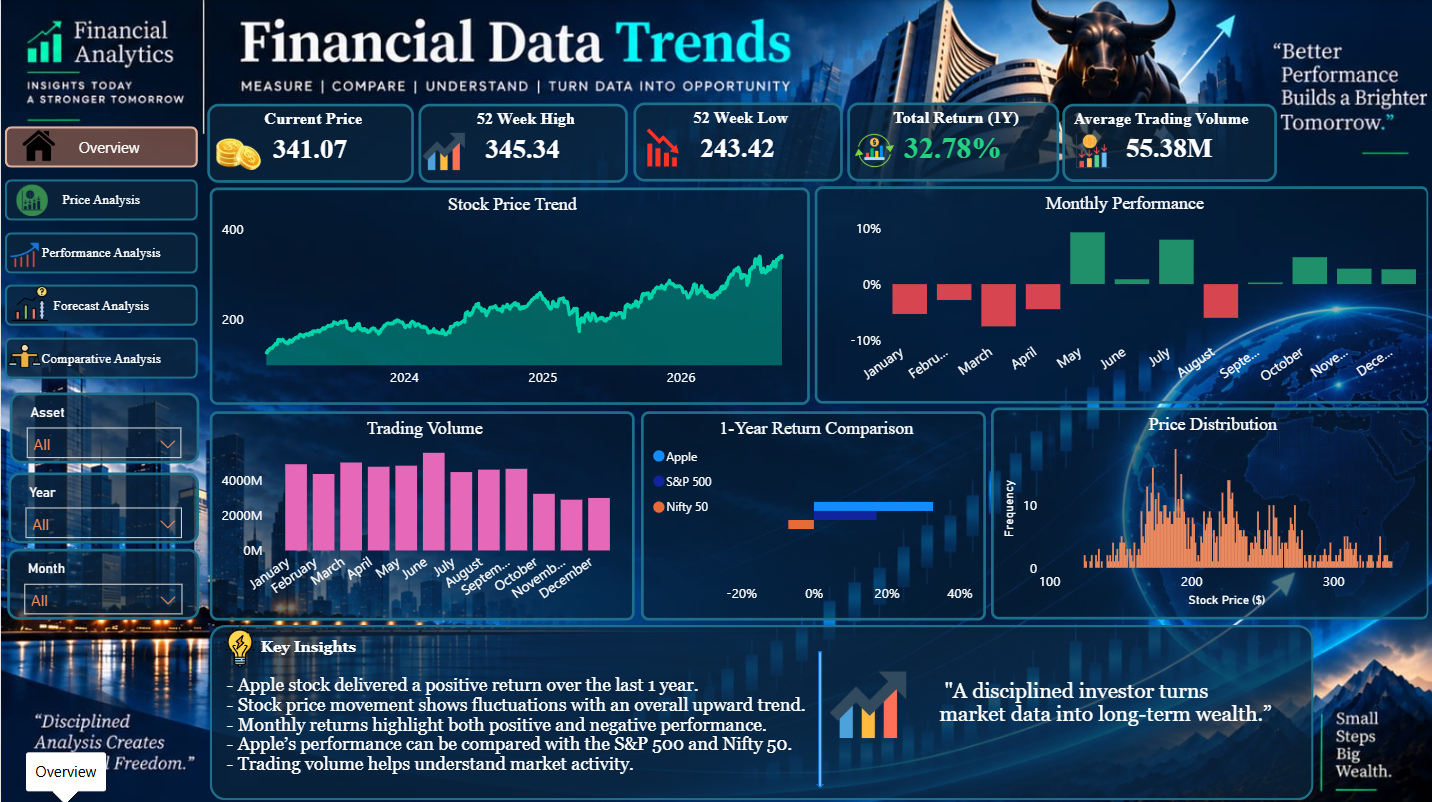

What the dashboard file says about the page in this screenshot:
{"tool":"powerbi","page":{"name":"Overview","canvas":[1280,720],"ordinal":0},"visuals":[{"type":"card","title":"Average Trading Volume ","fields":{"Values":["Asset Selector.Selected Average Trading Volume"]},"box":[945.1,92.7,191.5,69.5],"z":0},{"type":"card","title":"Total Return (1Y)","fields":{"Values":["Asset Selector.Selected 1-Year Return %"]},"box":[753.7,91.5,189,70.7],"z":1000},{"type":"card","title":" Current Price ","fields":{"Values":["Asset Selector.Selected Current Price"]},"box":[184.1,92.7,184.1,70.7],"z":2000},{"type":"card","title":"52 Week High","fields":{"Values":["Asset Selector.Selected 52 Week High"]},"box":[372,92.7,186.6,70.7],"z":3000},{"type":"card","title":"52 Week Low ","fields":{"Values":["Asset Selector.Selected 52 Week Low"]},"box":[563.4,91.5,186.6,70.7],"z":4000},{"type":"image","box":[186.6,100,50,74.4],"z":5000},{"type":"image","box":[370.7,96.3,47.6,75.6],"z":6000},{"type":"image","box":[946.3,114.6,52.4,40.2],"z":7000},{"type":"image","box":[756.1,96.3,43.9,74.4],"z":8000},{"type":"image","box":[563.4,107.3,52.4,48.8],"z":9000},{"type":"pageNavigator","box":[3.7,112,172.2,229.6],"z":10000},{"type":"image","box":[0,188.9,42.6,75],"z":11000},{"type":"image","box":[4.6,243.5,42.6,52.8],"z":12000},{"type":"image","box":[9.3,143.5,38,69.4],"z":13000},{"type":"image","box":[4.6,92.6,58.3,75],"z":14000},{"type":"image","box":[0,279.6,42.6,75],"z":15000},{"type":"lineChart","title":"Stock Price Trend","fields":{"Category":["Daily_Data.Date.Variation.Date Hierarchy.Year","Daily_Data.Date.Variation.Date Hierarchy.Quarter","Daily_Data.Date.Variation.Date Hierarchy.Month","Daily_Data.Date.Variation.Date Hierarchy.Day"],"Y":["Asset Selector.Selected Price"]},"box":[185.4,167.1,534.1,193.9],"z":16000},{"type":"clusteredColumnChart","title":"Monthly Performance","fields":{"Category":["Daily_Data.Year_Month.Variation.Date Hierarchy.Month"],"Y":["Asset Selector.Selected Monthly Return %"]},"box":[724.4,165.9,547.6,193.9],"z":17000},{"type":"clusteredColumnChart","title":"Trading Volume","fields":{"Category":["Daily_Data.Month"],"Y":["Asset Selector.Selected Trading Volume"]},"box":[185.4,365.9,378,186.6],"z":18000},{"type":"clusteredBarChart","title":"1-Year Return Comparison","fields":{"Y":["Daily_Data.AAPL 1Y Return %","Daily_Data.SP500 1Y Return %","Daily_Data.NIFTY50 1Y Return %"]},"box":[569.5,365.9,307.3,186.6],"z":19000},{"type":"clusteredColumnChart","title":"Price Distribution","fields":{"Category":["Price Axis.BinStart"],"Y":["Asset Selector.Price Axis Count"]},"box":[881.7,363.4,390.2,189],"z":20000},{"type":"shape","box":[185.4,556.1,982.9,156.1],"z":21000},{"type":"textbox","box":[196.3,561,526.8,147.6],"z":22000},{"type":"image","box":[726.8,589,90.2,78],"z":23000},{"type":"shape","box":[725.6,580.5,7.3,122],"z":24000},{"type":"textbox","box":[808.5,600,364.6,67.1],"z":25000},{"type":"image","box":[189,552.4,47.6,47.6],"z":26000},{"type":"slicer","title":" Current Price ","fields":{"Values":["Daily_Data.Year"]},"box":[6.3,421.3,169.8,62.9],"z":27000},{"type":"slicer","title":" Current Price ","fields":{"Values":["Daily_Data.Month"]},"box":[5,489.2,171,62.9],"z":28000},{"type":"slicer","title":" Current Price ","fields":{"Values":["Asset Selector.Asset"]},"box":[7.5,349.6,168.5,62.9],"z":29000}]}

Visuals, with their boxes in screenshot pixels (x1, y1, x2, y2), scaled from the page's 1280x720 canvas onto the 1432x802 screenshot:
"Average Trading Volume " card: BBox(1057, 103, 1272, 181)
"Total Return (1Y)" card: BBox(843, 102, 1055, 181)
" Current Price " card: BBox(206, 103, 412, 182)
"52 Week High" card: BBox(416, 103, 625, 182)
"52 Week Low " card: BBox(630, 102, 839, 181)
image: BBox(209, 111, 265, 194)
image: BBox(415, 107, 468, 191)
image: BBox(1059, 128, 1117, 172)
image: BBox(846, 107, 895, 190)
image: BBox(630, 120, 689, 174)
pageNavigator: BBox(4, 125, 197, 381)
image: BBox(0, 210, 48, 294)
image: BBox(5, 271, 53, 330)
image: BBox(10, 160, 53, 237)
image: BBox(5, 103, 70, 187)
image: BBox(0, 311, 48, 395)
"Stock Price Trend" lineChart: BBox(207, 186, 805, 402)
"Monthly Performance" clusteredColumnChart: BBox(810, 185, 1423, 401)
"Trading Volume" clusteredColumnChart: BBox(207, 408, 630, 615)
"1-Year Return Comparison" clusteredBarChart: BBox(637, 408, 981, 615)
"Price Distribution" clusteredColumnChart: BBox(986, 405, 1423, 615)
shape: BBox(207, 619, 1307, 793)
textbox: BBox(220, 625, 809, 789)
image: BBox(813, 656, 914, 743)
shape: BBox(812, 647, 820, 783)
textbox: BBox(905, 668, 1312, 743)
image: BBox(211, 615, 265, 668)
" Current Price " slicer: BBox(7, 469, 197, 539)
" Current Price " slicer: BBox(6, 545, 197, 615)
" Current Price " slicer: BBox(8, 389, 197, 459)
